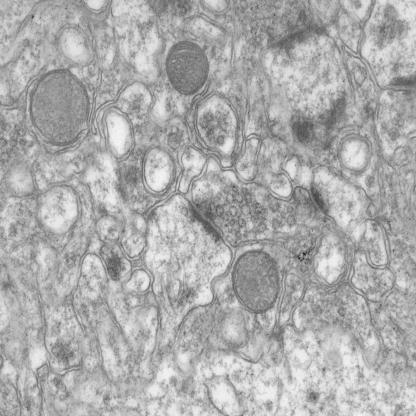mitochondria: (28, 67, 92, 148), (232, 249, 282, 316), (164, 38, 211, 95)
